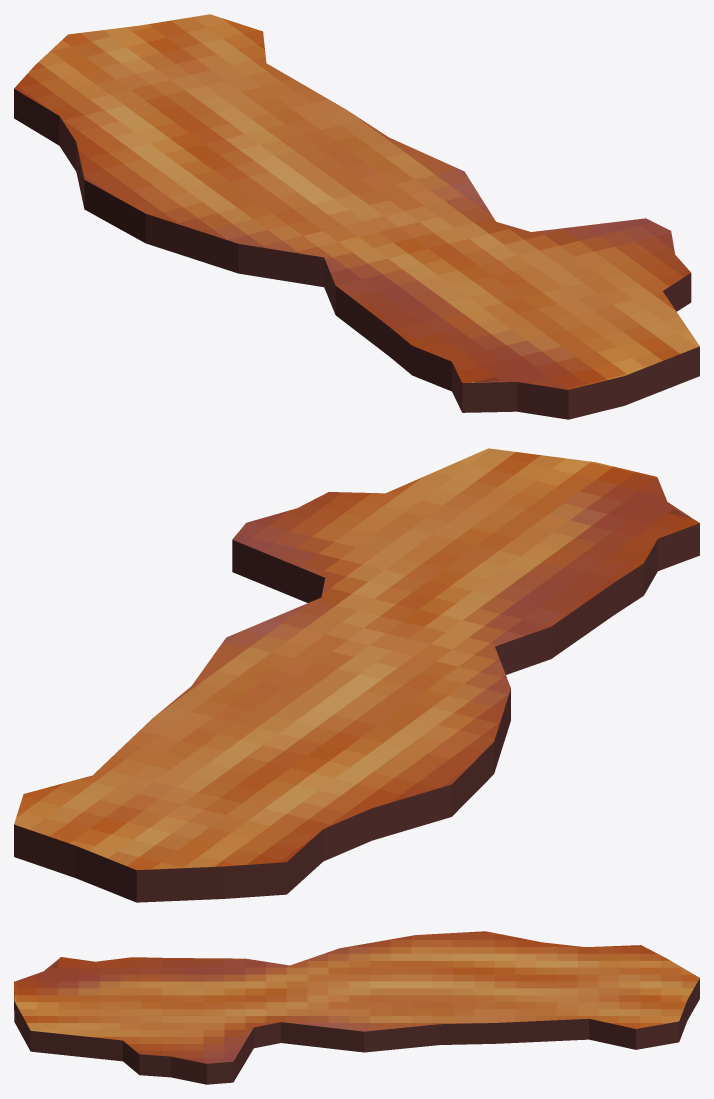
Rendered from Bacon_Platform.fbx.
3 renders of one model, top to bottom at view 1: azimuth 30°, elevation 25°; view 2: azimuth 150°, elevation 25°; view 3: azimuth 270°, elevation 25°, orthographic. The views are drawn at different scales.
Visible parts, largest first — view 1: Bacon_Platform; view 2: Bacon_Platform; view 3: Bacon_Platform.
Boxes of the visible parts, box(x1,y1,x2,y2) form: Bacon_Platform: box(14, 14, 699, 419); Bacon_Platform: box(14, 448, 699, 902); Bacon_Platform: box(14, 931, 699, 1084).
Size of the model in its own units: 13.62 by 1 by 29.78.
